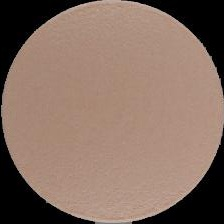23155-133: (0, 0, 224, 224)
